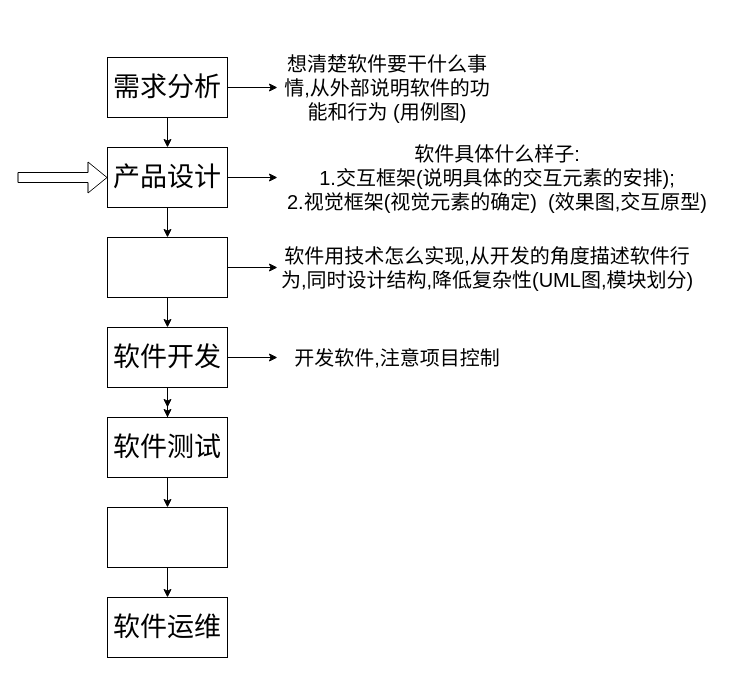
Some shapes in this 734 by 675 pixel diagram are drawn without their labels. Each missing label, with the centre of its shape:
软件发布: pixel 167 537
软件建模: pixel 167 267
